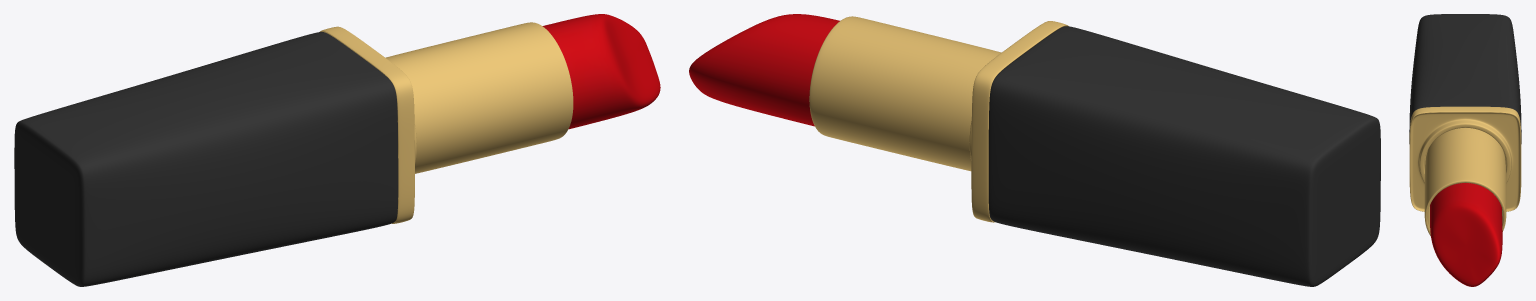
Rendered from Lipstick.fbx.
3 views of the same model, side by side, from view 1: azimuth 30°, elevation 25°; view 2: azimuth 150°, elevation 25°; view 3: azimuth 270°, elevation 25° (orthographic). The views are drawn at different scales.
Parts seen in each view (by area): view 1: Base, Arm, Paint, Center; view 2: Base, Arm, Paint, Center; view 3: Base, Paint, Center, Arm.
Boxes of the visible parts, x1,y1,x2,y2 form: Base: [14, 32, 398, 286]; Arm: [385, 22, 573, 173]; Paint: [542, 14, 660, 129]; Center: [320, 26, 416, 223]; Base: [988, 26, 1380, 286]; Arm: [809, 16, 1001, 171]; Paint: [689, 14, 839, 126]; Center: [969, 21, 1068, 222]; Base: [1409, 14, 1521, 143]; Paint: [1430, 183, 1502, 286]; Center: [1409, 106, 1521, 211]; Arm: [1424, 128, 1506, 236].
Size of the model in its own units: 387 by 89.6 by 89.35.
